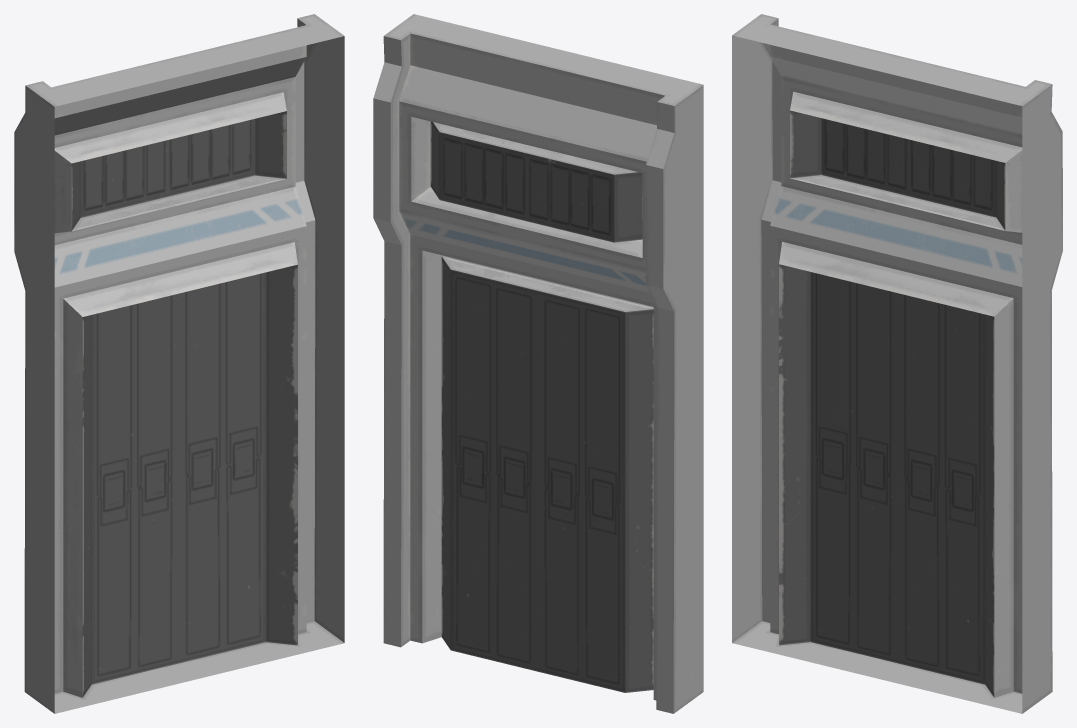
The model's file is Pfb_Soda_Wall7.fbx.
3 renders of one model, left to right at view 1: azimuth 30°, elevation 25°; view 2: azimuth 150°, elevation 25°; view 3: azimuth 330°, elevation 25°, orthographic.
Visible parts, largest first — view 1: wall7; view 2: wall7; view 3: wall7.
Boxes of the visible parts, <box> form: wall7: <box>14,14,344,713</box>; wall7: <box>373,14,703,713</box>; wall7: <box>732,14,1062,713</box>.
Size of the model in its own units: 1 by 2 by 0.2416.
1 material, 1 textured.
